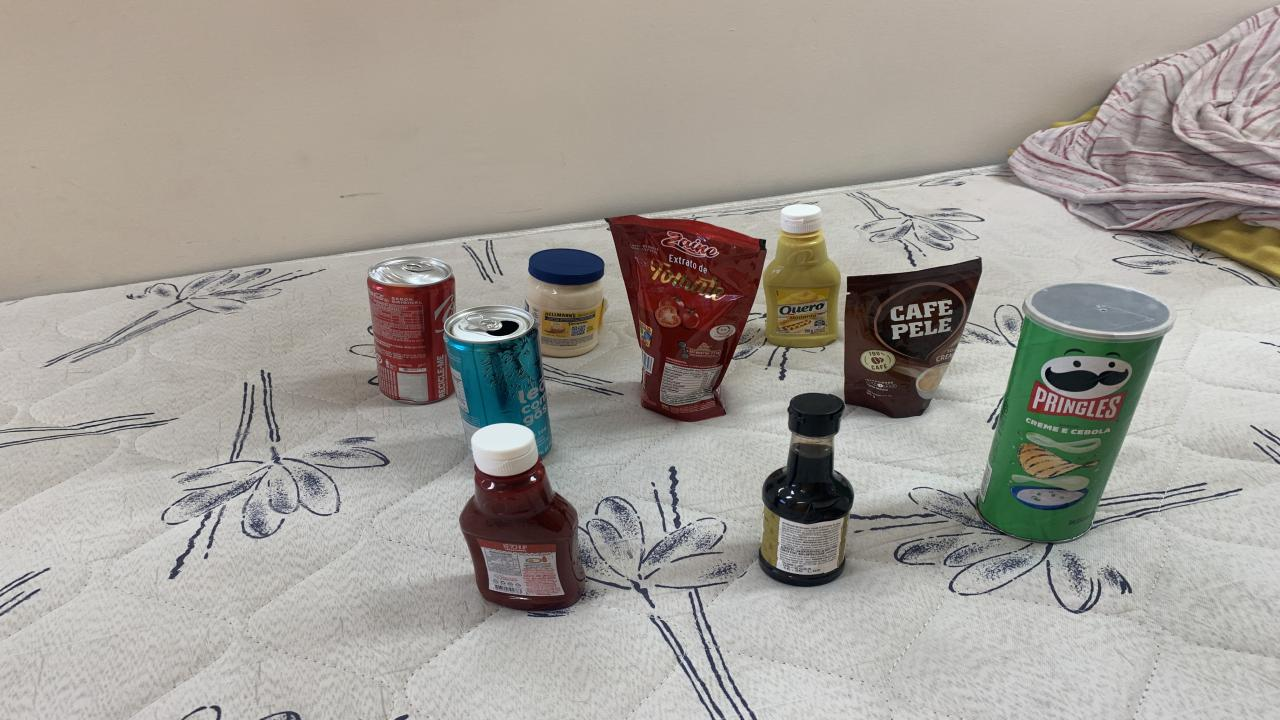Coffee-Pantry_Items: (845, 259, 982, 418)
Coke-Drinks: (368, 257, 455, 405)
English_Sauce-Pantry_Items: (760, 392, 852, 587)
Ketchup-Pantry_Items: (460, 424, 585, 611)
Mayonnaise-Pantry_Items: (525, 248, 605, 356)
Mustard-Pantry_Items: (762, 204, 840, 347)
Pringles-Snacks: (978, 281, 1175, 542)
Tea-Drinks: (445, 306, 552, 456)
Tomato_Sauce-Pantry_Items: (608, 216, 765, 422)
